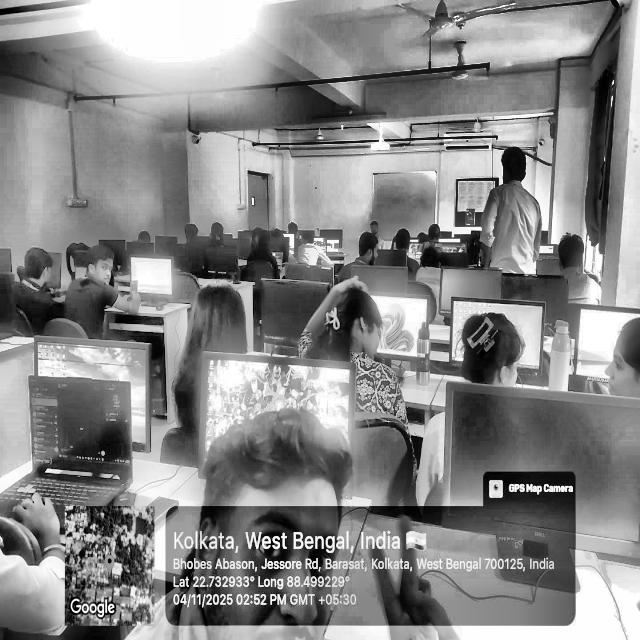Focus: (190, 274, 274, 384), (172, 217, 275, 270), (495, 134, 547, 218), (278, 212, 330, 270), (18, 240, 50, 295), (355, 230, 383, 267)
Not Focus: (213, 447, 372, 621), (334, 278, 398, 370), (467, 302, 523, 404), (600, 318, 640, 417), (65, 250, 124, 310), (395, 223, 446, 274)
